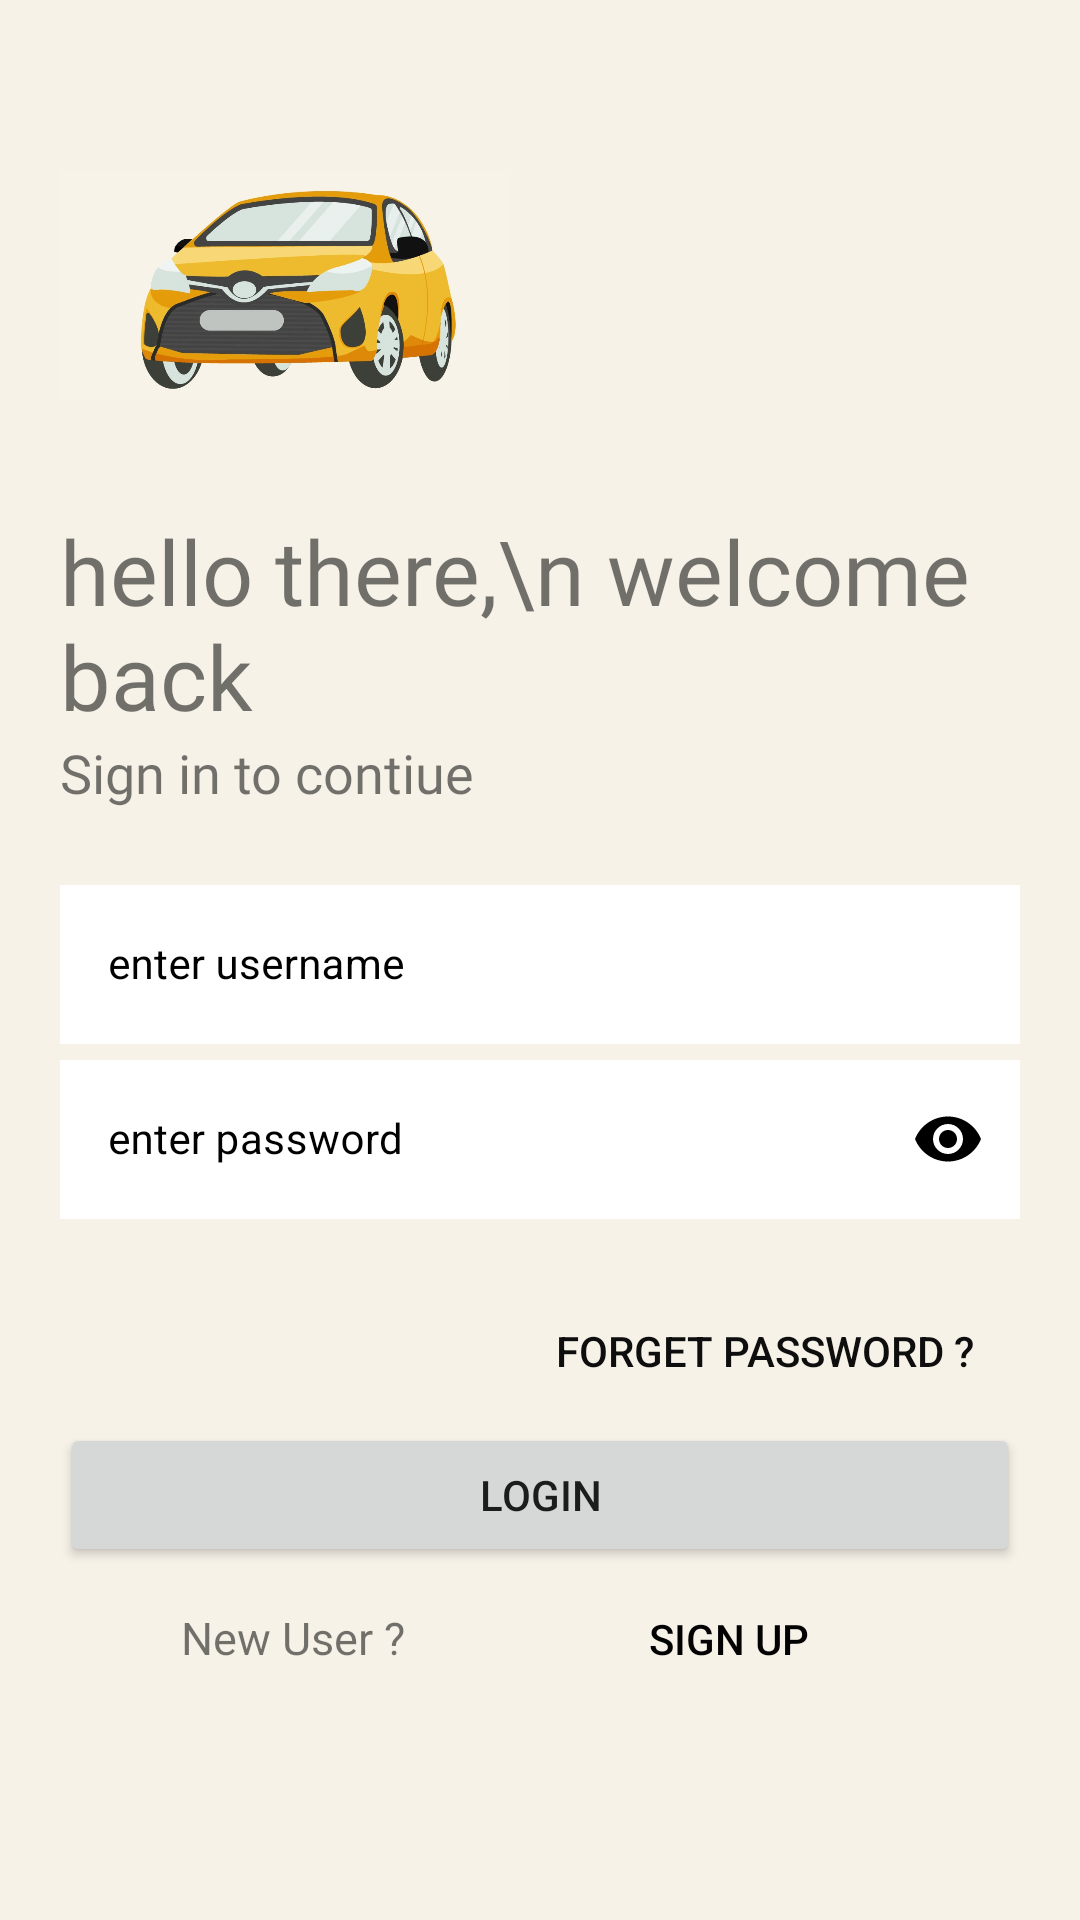

Where to tap for icons on this 1080 × 1920 app screen, as (x=x, y=y):
car: (x=298, y=290)
